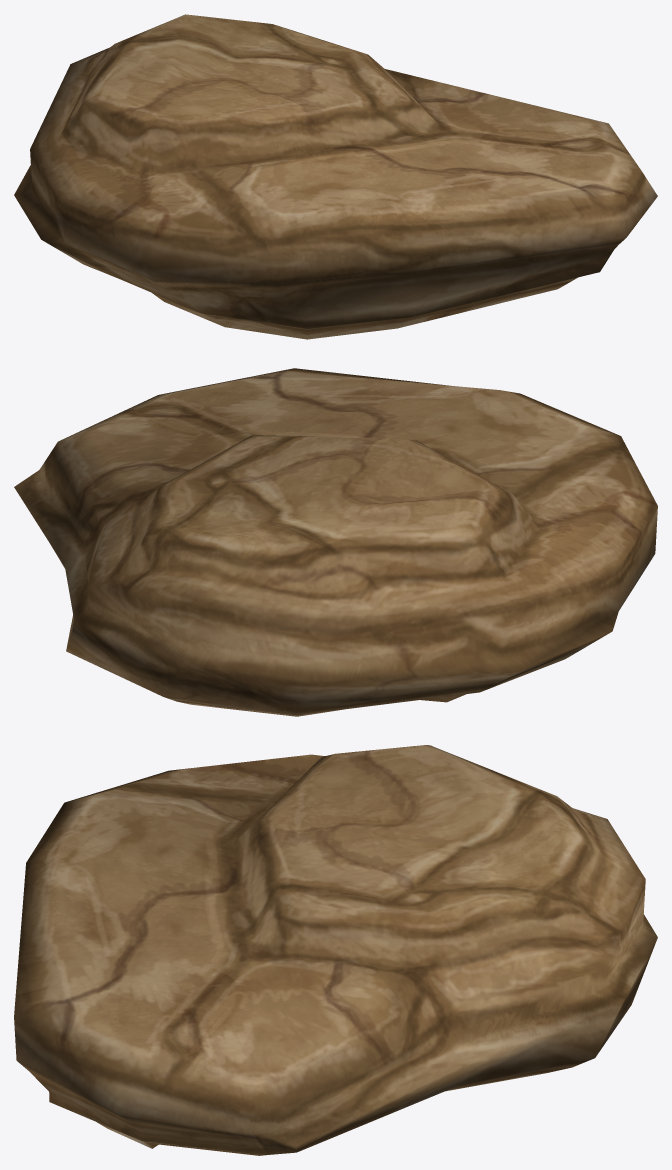
Rendered from desert rock flat.FBX.
The picture shows the model from 3 angles, top to bottom: view 1: azimuth 30°, elevation 25°; view 2: azimuth 150°, elevation 25°; view 3: azimuth 270°, elevation 25°; orthographic projection. The views are drawn at different scales.
Parts seen in each view (by area): view 1: desert rock flat; view 2: desert rock flat; view 3: desert rock flat.
Part boxes in pixels (left/top/right/bottom): desert rock flat: left=14, top=14, right=657, bottom=339; desert rock flat: left=14, top=368, right=657, bottom=716; desert rock flat: left=14, top=745, right=657, bottom=1155.
Size of the model in its own units: 5.61 by 1.77 by 4.85.
